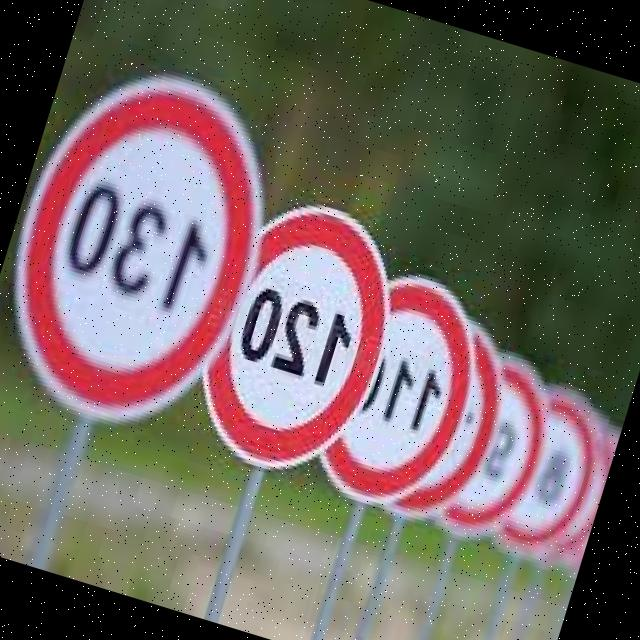speed_limit_120: (170, 177, 422, 496)
